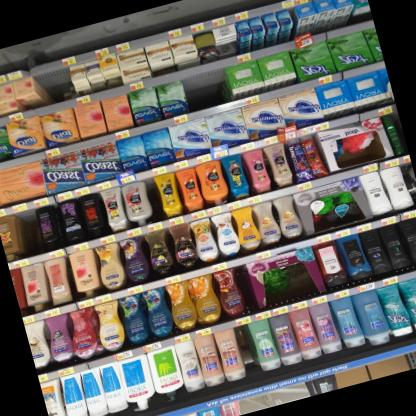empty_space: (240, 382, 311, 414), (180, 66, 231, 110), (229, 326, 260, 380), (18, 212, 47, 255), (41, 65, 74, 101)
